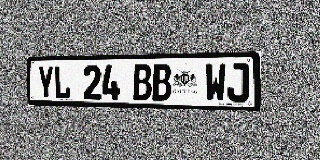2: (84, 65, 101, 100)
4: (102, 65, 120, 100)
B: (152, 64, 172, 101), (133, 64, 152, 101)
J: (227, 63, 249, 102)
L: (54, 65, 71, 99)
W: (205, 63, 226, 102)
Y: (37, 65, 54, 99)
